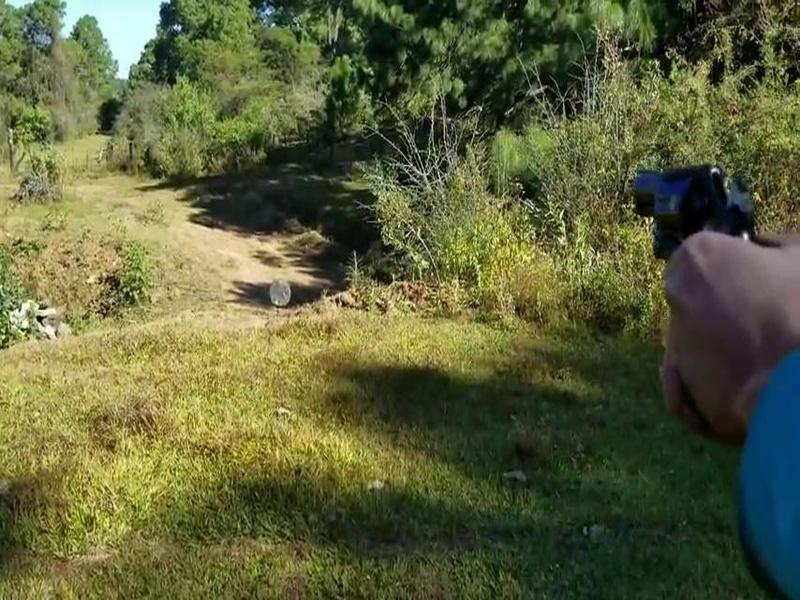Revolver: (601, 151, 784, 326)
